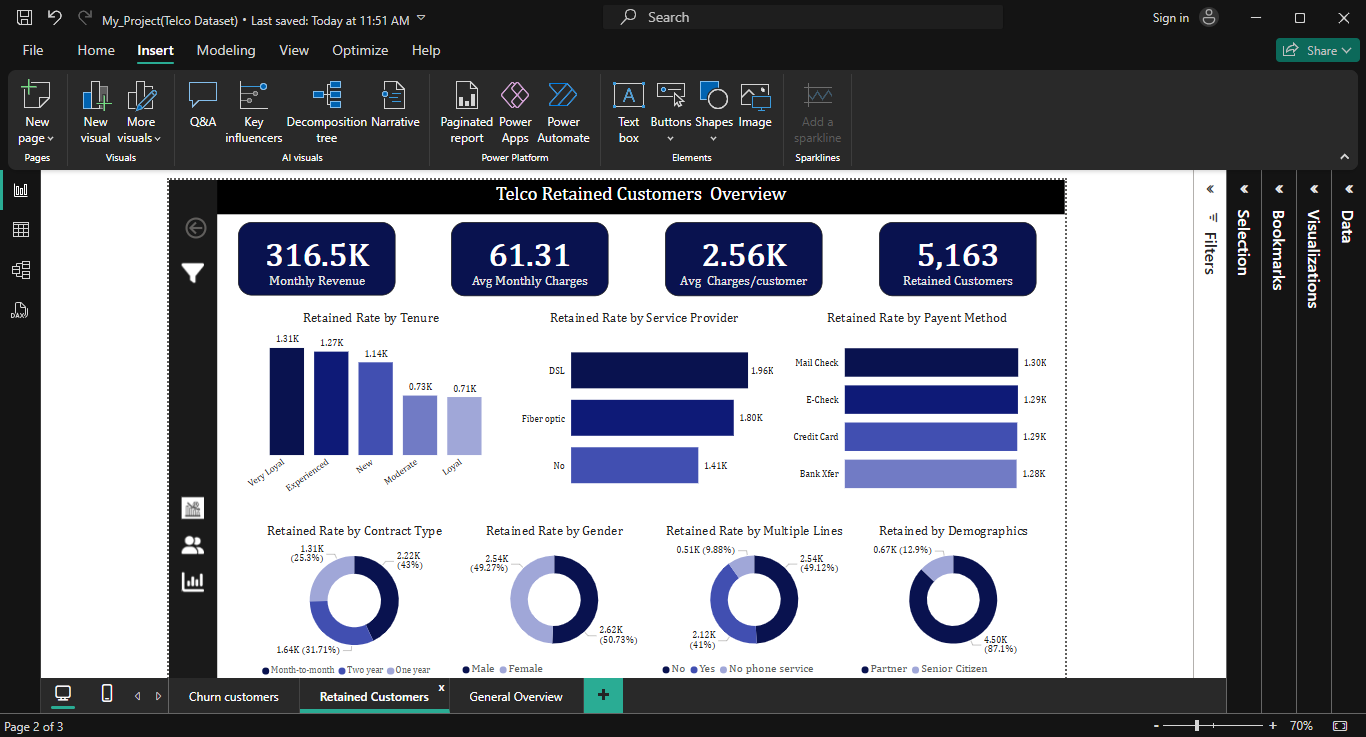

Layout of this report page (visuals, bound fields, positions):
{"tool":"powerbi","page":{"name":"Retained Customers","canvas":[1280,720],"ordinal":1},"visuals":[{"type":"card","title":"Overall Charges","fields":{"Values":["Measure.Monthly Revenue"]},"box":[97.9,60,225,105.1],"z":0},{"type":"actionButton","box":[0,448.6,68.6,40],"z":0,"group":"g1"},{"type":"textbox","box":[69.1,0,1211,49],"z":1000},{"type":"actionButton","box":[0,501.5,68.6,40],"z":1000,"group":"g1"},{"type":"shape","box":[0,0,68.9,720.6],"z":2000},{"type":"actionButton","box":[0,554.3,68.6,40],"z":2000,"group":"g1"},{"type":"card","title":"Overall Charges","fields":{"Values":["Measure.Avg Monthly Charges"]},"box":[403.4,60,225,105.7],"z":3000},{"type":"card","title":"Overall Charges","fields":{"Values":["Measure.Avg Total Charges"]},"box":[708.8,60,225,105.7],"z":4000},{"type":"card","title":"Overall Charges","fields":{"Values":["Measure.Retained Customers"]},"box":[1014.3,60,225,105.7],"z":5000},{"type":"clusteredColumnChart","title":"Retained Rate  by Tenure","fields":{"Category":["Telco-Customer-Churn.Tenure Group"],"Y":["Count(Telco-Customer-Churn.customerID)"]},"box":[97.9,187.2,380,280.8],"z":6000},{"type":"clusteredBarChart","title":"Retained Rate by Service Provider","fields":{"Y":["CountNonNull(Telco-Customer-Churn.customerID)"],"Category":["Telco-Customer-Churn.InternetService"]},"box":[488.2,187.1,380,281.4],"z":7000},{"type":"donutChart","title":"Retained Rate by Contract Type","fields":{"Category":["Telco-Customer-Churn.Contract"],"Y":["Count(Telco-Customer-Churn.customerID)"]},"box":[126.7,491,275,229],"z":8000},{"type":"donutChart","title":"Retained Rate  by Gender","fields":{"Y":["Count(Telco-Customer-Churn.customerID)"],"Category":["Telco-Customer-Churn.gender"]},"box":[412.3,491,275,229],"z":9000},{"type":"donutChart","title":"Retained Rate  by Multiple Lines ","fields":{"Y":["Count(Telco-Customer-Churn.customerID)"],"Category":["Telco-Customer-Churn.MultipleLines"]},"box":[697.9,491,275,229],"z":10000},{"type":"donutChart","title":"Retained  by Demographics","fields":{"Category":["Telco-Customer-Churn.Demographic"],"Y":["Count(Telco-Customer-Churn.customerID)"]},"box":[983.5,491,275,229],"z":11000},{"type":"clusteredBarChart","title":"Retained Rate by Payent Method","fields":{"Y":["CountNonNull(Telco-Customer-Churn.customerID)"],"Category":["Telco-Customer-Churn.AbbreviatedPayment"]},"box":[878.6,187.1,380,281.4],"z":12000},{"type":"actionButton","box":[18.6,48.6,50,40],"z":13000},{"type":"actionButton","box":[0,112.9,68.6,40],"z":14000},{"type":"group","id":"g1","title":"Page Navigation","box":[0,448.6,68.6,145.7],"z":15000}]}

Visuals, with their boxes on the page's 1280x720 design canvas (x1, y1, x2, y2). These are canvas units, not pixel positions in the 1366x737 screenshot, which may show the page scaled, cropped or inside an application window:
"Overall Charges" card: 98/60/323/165
actionButton: 0/449/69/489
textbox: 69/0/1280/49
actionButton: 0/502/69/542
shape: 0/0/69/721
actionButton: 0/554/69/594
"Overall Charges" card: 403/60/628/166
"Overall Charges" card: 709/60/934/166
"Overall Charges" card: 1014/60/1239/166
"Retained Rate  by Tenure" clusteredColumnChart: 98/187/478/468
"Retained Rate by Service Provider" clusteredBarChart: 488/187/868/468
"Retained Rate by Contract Type" donutChart: 127/491/402/720
"Retained Rate  by Gender" donutChart: 412/491/687/720
"Retained Rate  by Multiple Lines " donutChart: 698/491/973/720
"Retained  by Demographics" donutChart: 984/491/1258/720
"Retained Rate by Payent Method" clusteredBarChart: 879/187/1259/468
actionButton: 19/49/69/89
actionButton: 0/113/69/153
"Page Navigation" group: 0/449/69/594
